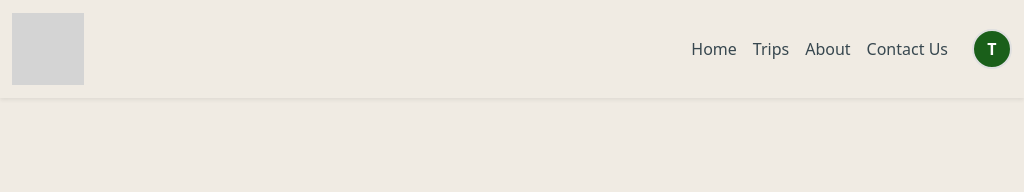
it: NavigationBar › displays username in dropdown header
This screenshot has width=1024, height=192.
Note: Click on the avatar to open dropdown
Click the text "T": (992, 49) [972,29,1012,69]
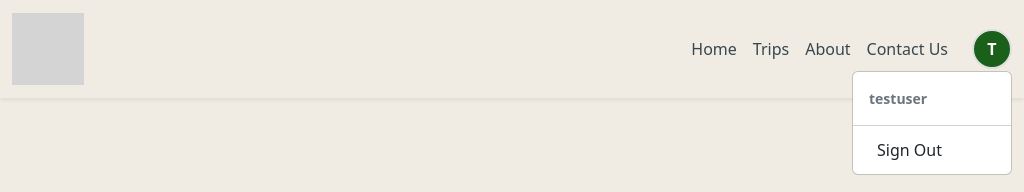
Expected: the text "testuser" is shown, [869,89,927,108]
